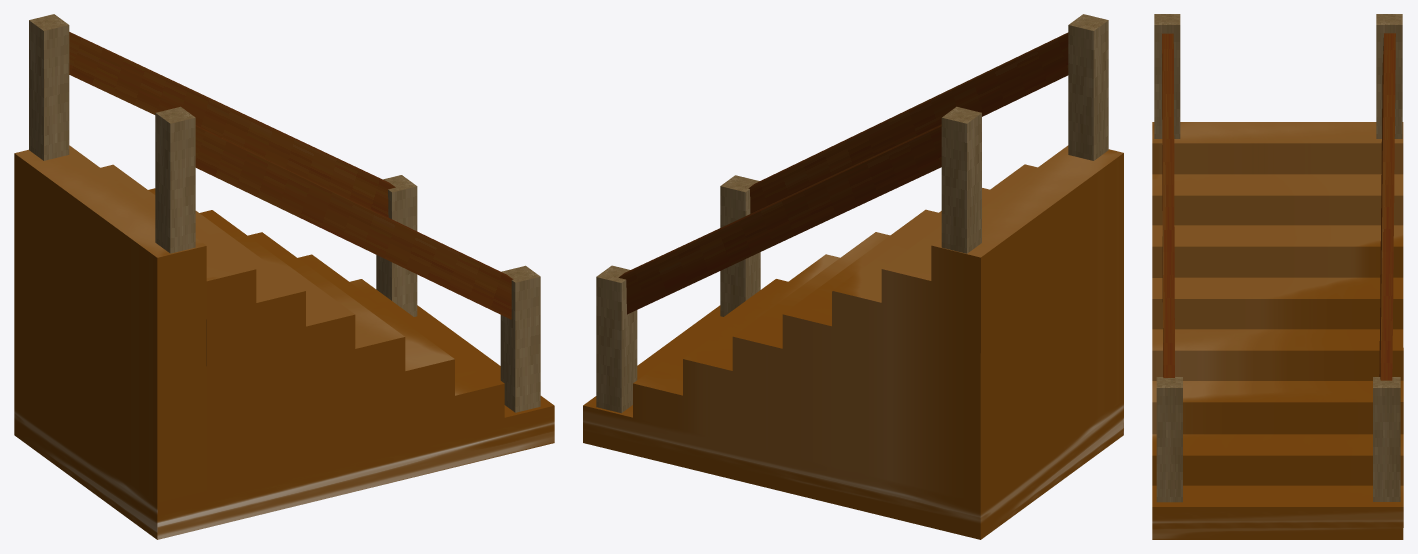
File: Stairs2.glb
3 views of the same model, side by side, from view 1: azimuth 30°, elevation 25°; view 2: azimuth 150°, elevation 25°; view 3: azimuth 270°, elevation 25° (orthographic). The views are drawn at different scales.
Visible parts, largest first — view 1: Stairs2_joined; view 2: Stairs2_joined; view 3: Stairs2_joined.
Boxes of the visible parts, <box> form: Stairs2_joined: <box>14,14,554,539</box>; Stairs2_joined: <box>583,14,1123,539</box>; Stairs2_joined: <box>1152,14,1403,539</box>.
Bounding box in the file's own units: 1.55 × 1.54 × 0.9688.
3 materials, 3 textured.
